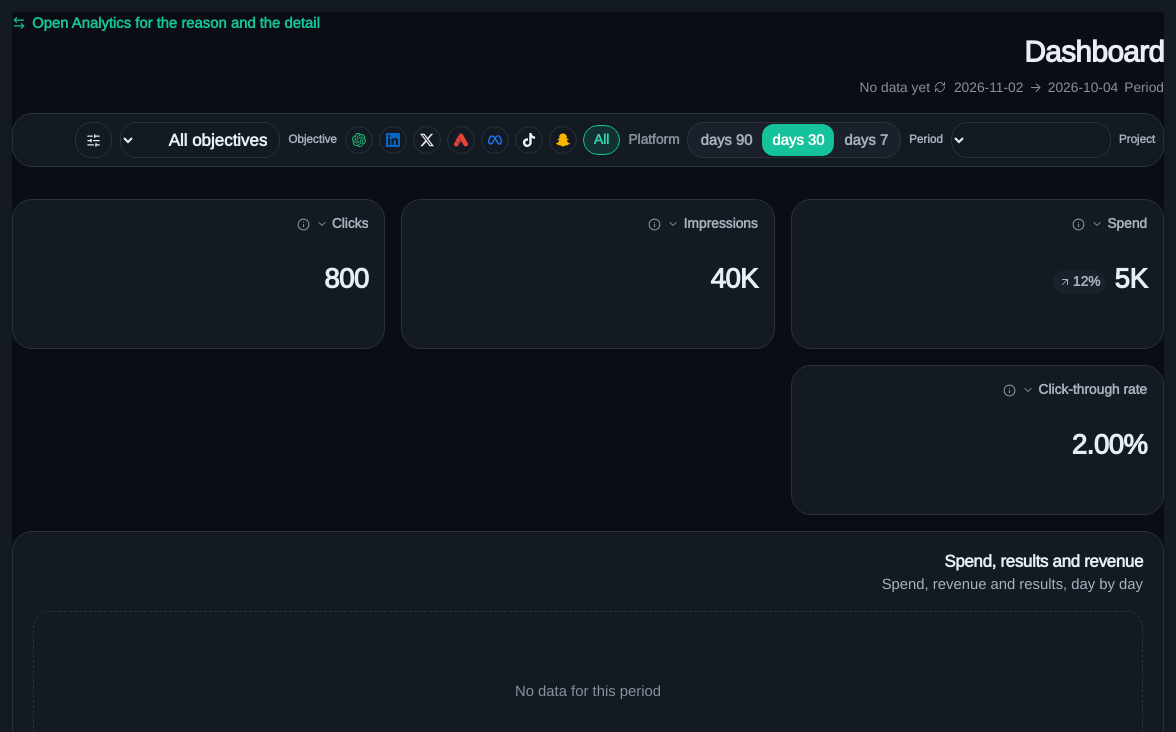
the dashboard filter bar › says a metric was never reported instead of printing its coalesced zero
The width and height of the screenshot is (1176, 732).
Click the button with test id "kpi-picker-3".
click(1085, 390)  # box [1022,382,1147,398]
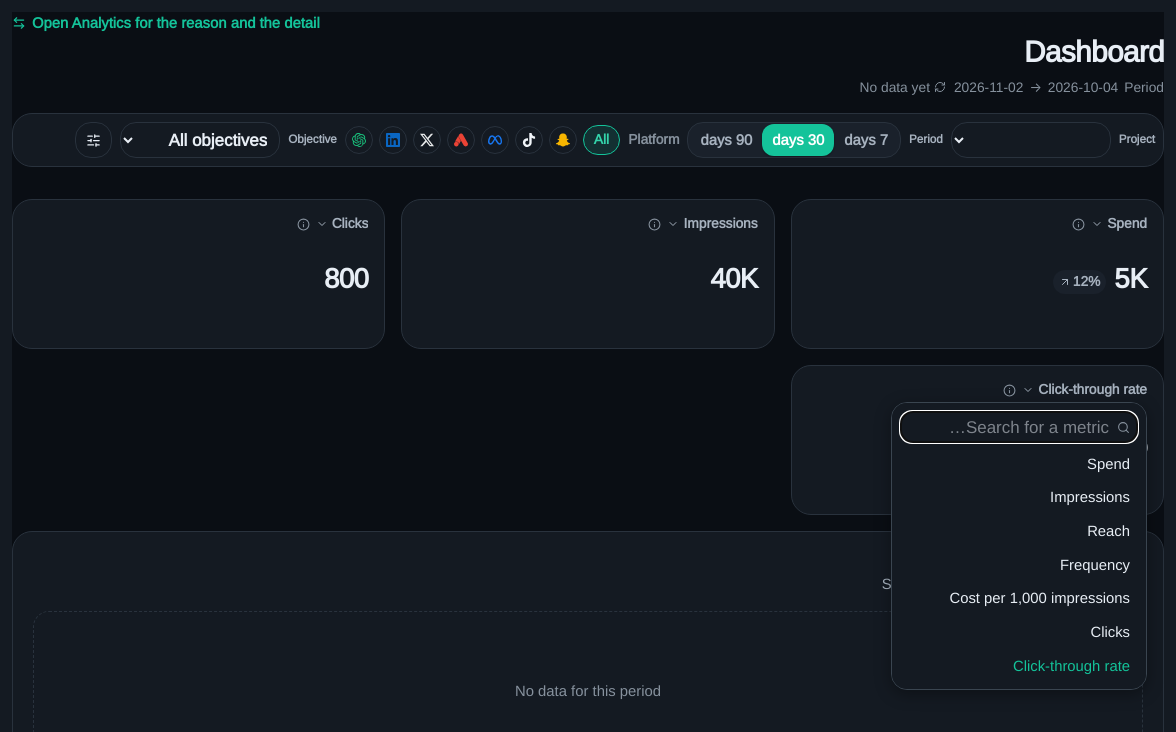
Click the button with test id "kpi-option-reach".
click(1019, 531)  # box [900,514,1138,548]
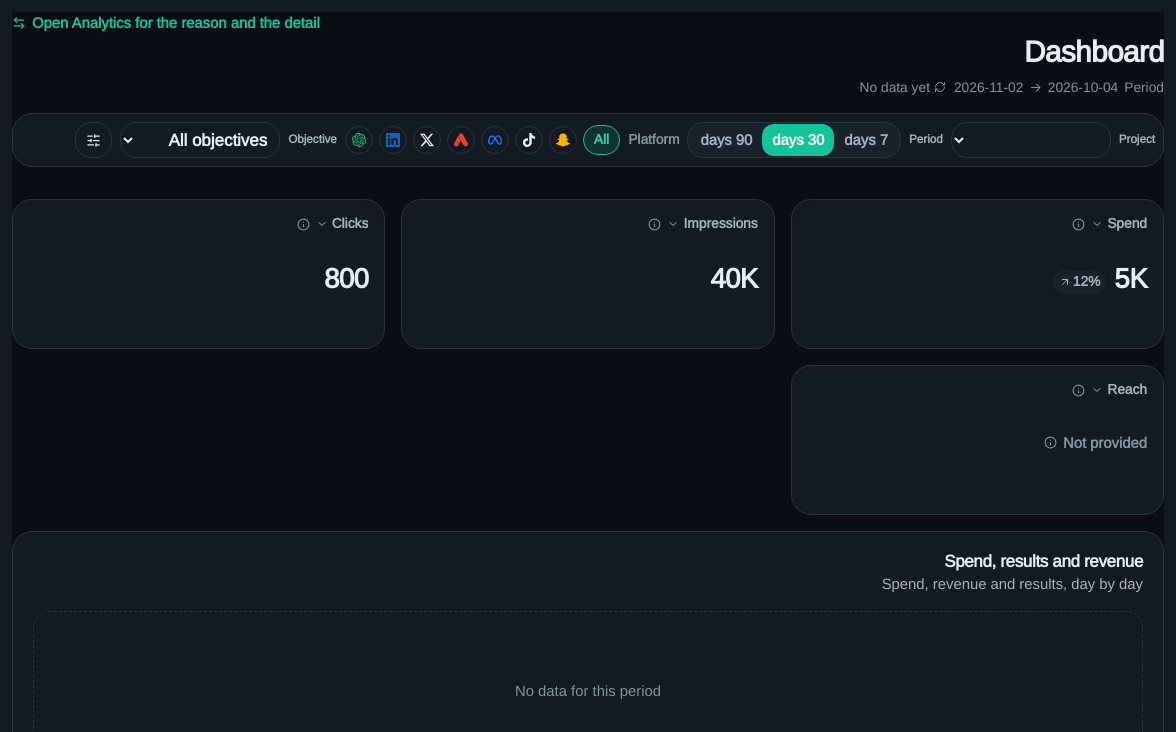
Expected: the element with test id "metric-reach" does not show "0", [791,365,1164,515]
Now the element with test id "metric-reach" shows "Not provided", box [1063,434,1147,451]
